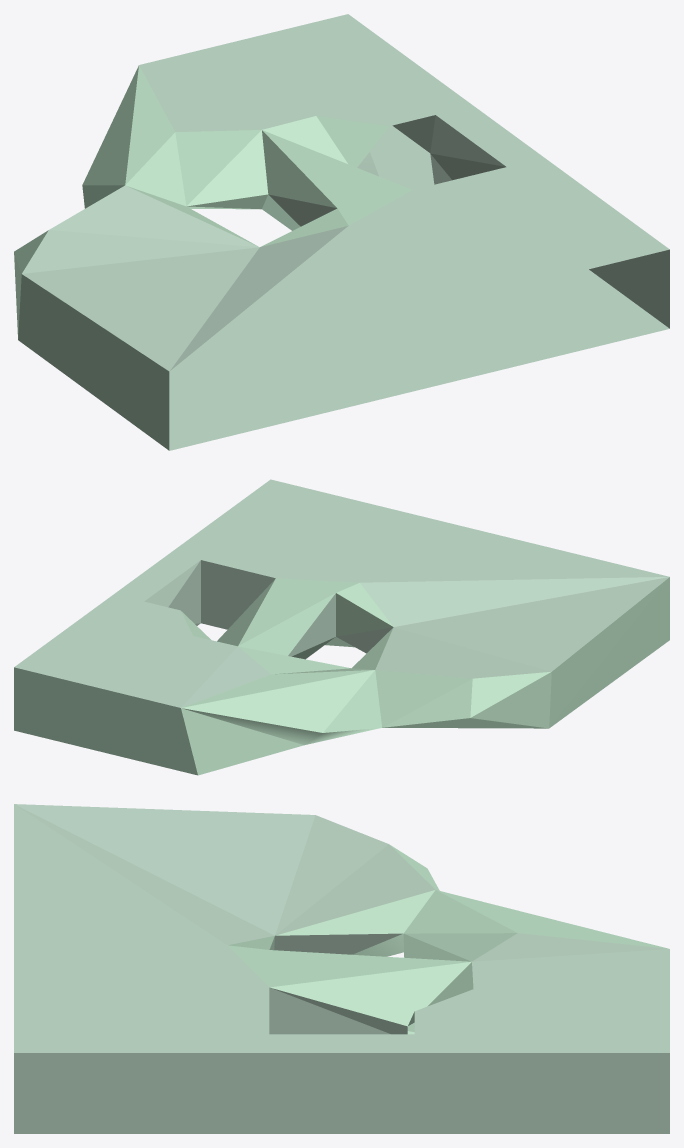
3 renders of one model, top to bottom at view 1: azimuth 30°, elevation 25°; view 2: azimuth 150°, elevation 25°; view 3: azimuth 270°, elevation 25°, orthographic. The views are drawn at different scales.
Visible parts, largest first — view 1: Object13; view 2: Object13; view 3: Object13.
Boxes of the visible parts, bbox=[...] form: Object13: bbox=[14, 14, 669, 450]; Object13: bbox=[14, 479, 669, 775]; Object13: bbox=[14, 804, 669, 1133].
Size of the model in its own units: 33417 by 5062 by 37204.
